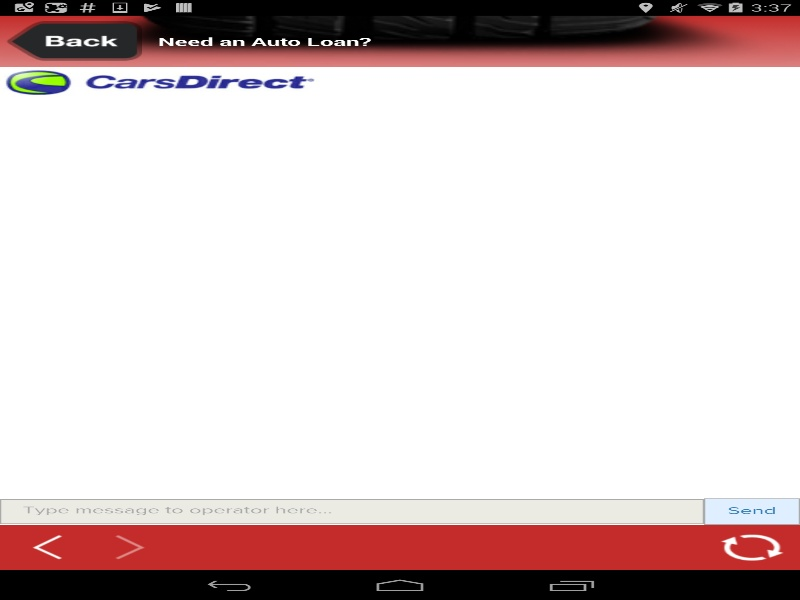Button: (6, 21, 142, 61), (6, 528, 89, 566), (89, 528, 172, 566), (710, 528, 793, 566)
Input: (0, 499, 704, 524)
